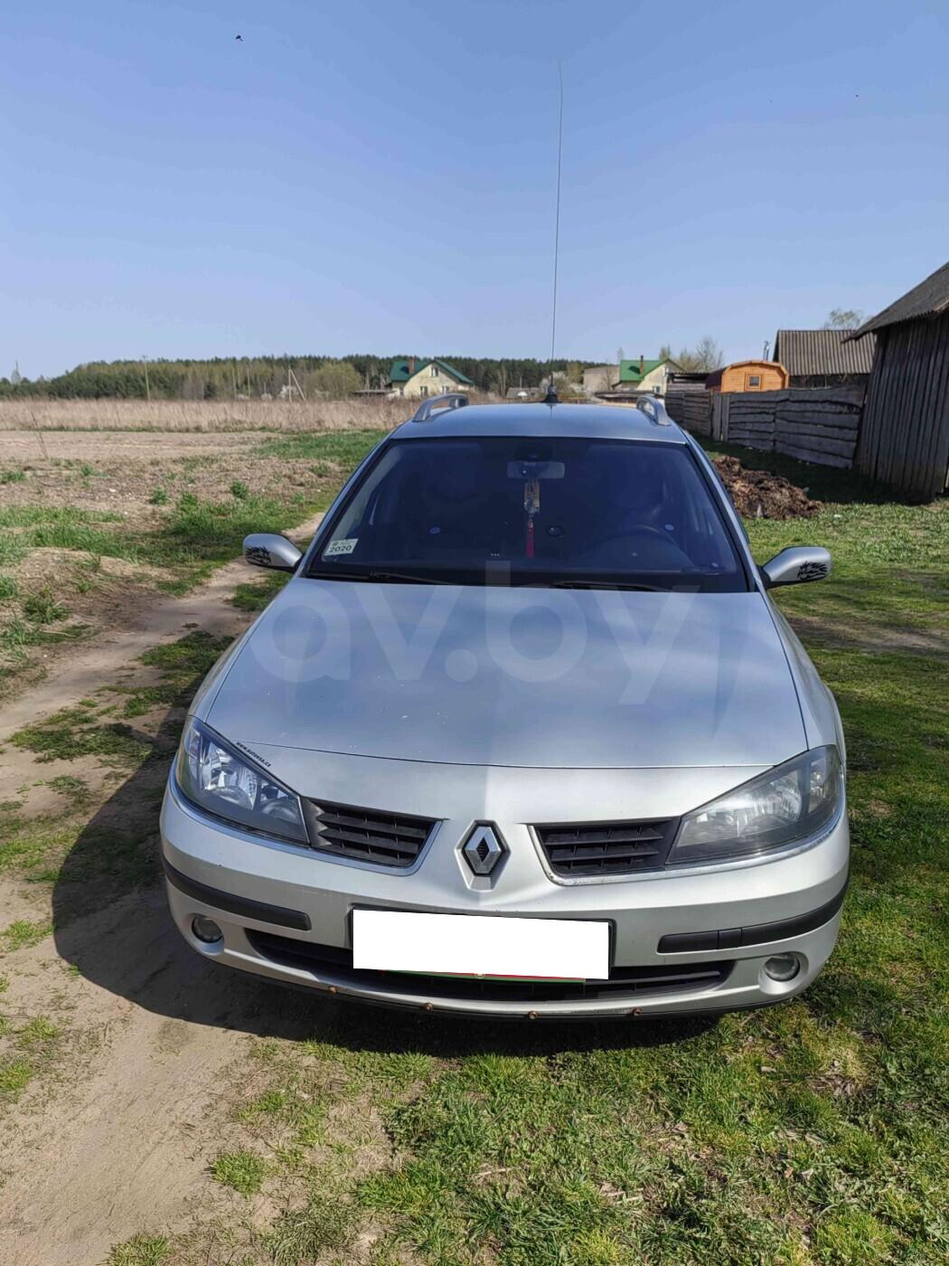Laguna_2005-2007: (154, 389, 864, 1058)
